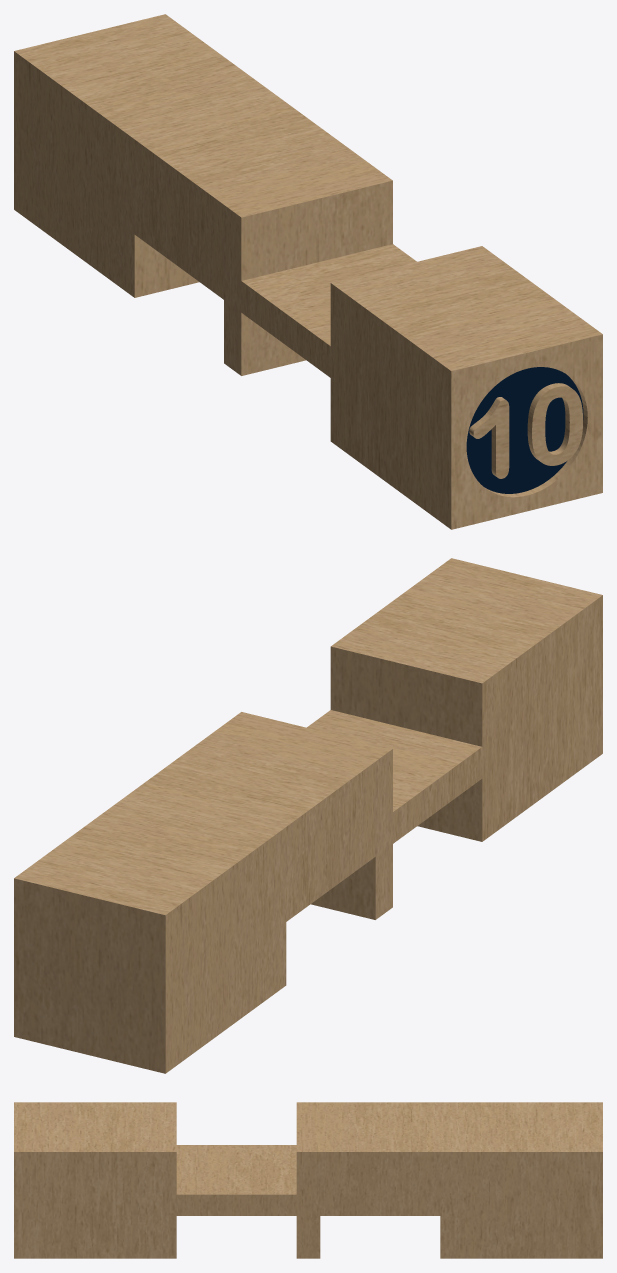
Rendered from Piece10.glb.
3 renders of one model, top to bottom at view 1: azimuth 30°, elevation 25°; view 2: azimuth 150°, elevation 25°; view 3: azimuth 270°, elevation 25°, orthographic. The views are drawn at different scales.
Parts seen in each view (by area): view 1: Piece10; view 2: Piece10; view 3: Piece10.
Boxes of the visible parts, x1,y1,x2,y2 form: Piece10: (14,14,602,529); Piece10: (14,558,602,1073); Piece10: (14,1102,602,1258).
Size of the model in its own units: 10 by 10 by 50.
Materials: 2 (1 with a texture image).
